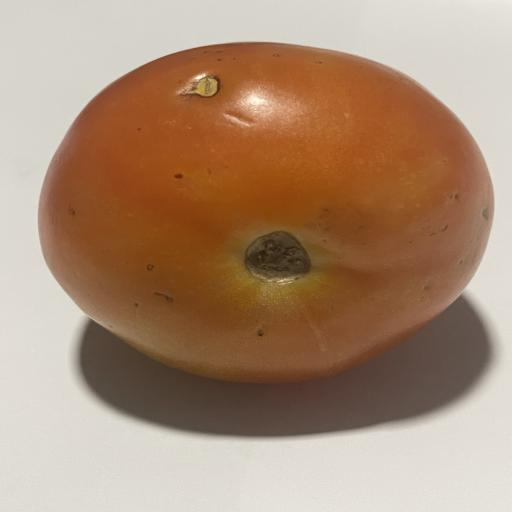unripe: (39, 43, 493, 382)
